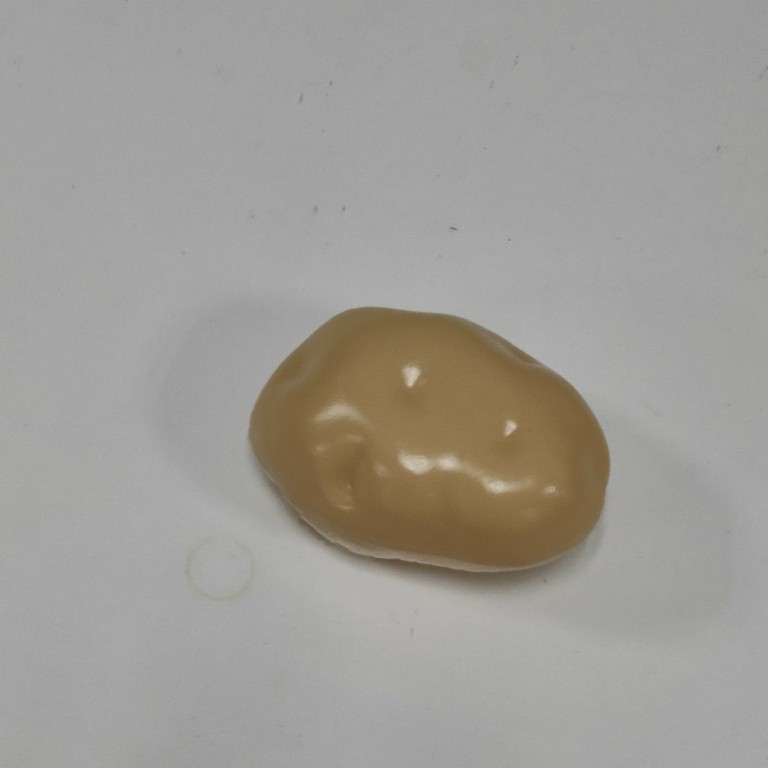fruit_potato: (235, 299, 616, 580)
